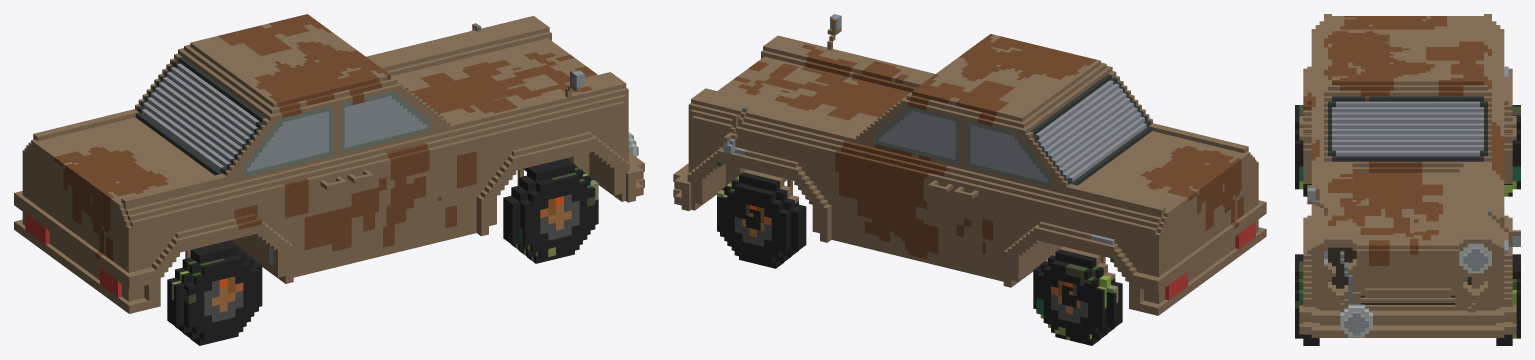
The model's file is car1.FBX.
The picture shows the model from 3 angles, left to right: view 1: azimuth 30°, elevation 25°; view 2: azimuth 150°, elevation 25°; view 3: azimuth 270°, elevation 25°; orthographic projection. The views are drawn at different scales.
Parts seen in each view (by area): view 1: default; view 2: default; view 3: default.
Boxes of the visible parts, x1,y1,x2,y2 form: default: (14,14,644,345); default: (673,14,1266,345); default: (1295,14,1520,345).
Size of the model in its own units: 13.6 by 5.1 by 5.5.
Materials: 1 (1 with a texture image).
